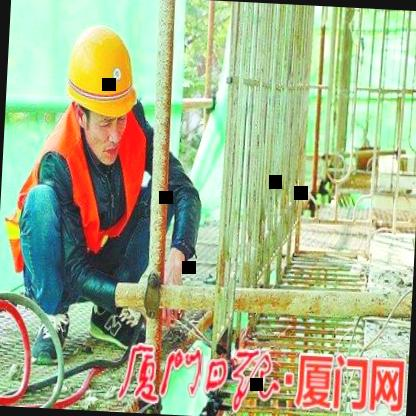helmet: (53, 10, 146, 172)
